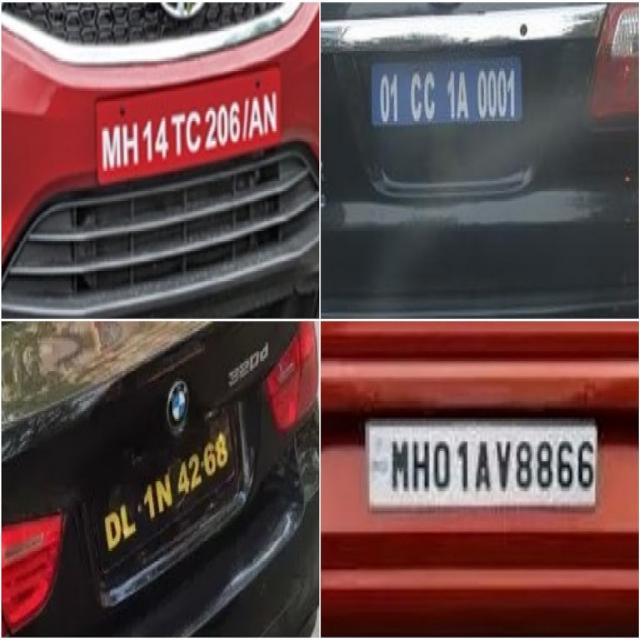number_plate: (101, 407, 234, 585), (368, 419, 602, 504), (93, 77, 283, 178), (372, 55, 523, 124)
